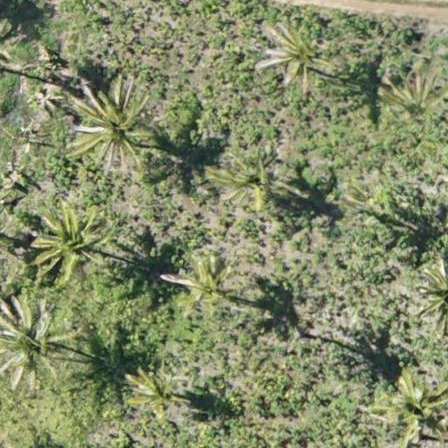palm_tree: (71, 79, 157, 171), (29, 198, 114, 289), (1, 296, 68, 389), (376, 373, 448, 448), (210, 151, 283, 211), (378, 69, 448, 126), (262, 27, 326, 85), (169, 257, 231, 311), (126, 366, 178, 417)
